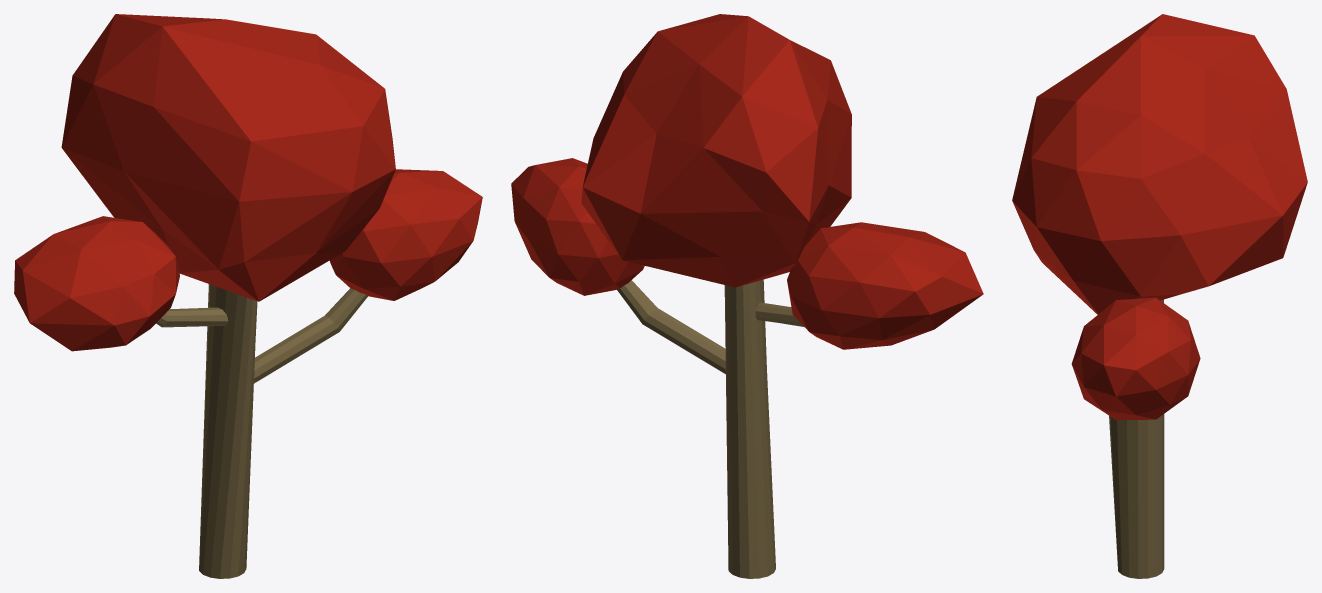
Rendered from red_tree.fbx.
The picture shows the model from 3 angles, left to right: view 1: azimuth 30°, elevation 25°; view 2: azimuth 150°, elevation 25°; view 3: azimuth 270°, elevation 25°; orthographic projection. The views are drawn at different scales.
Visible parts, largest first — view 1: tree_3; view 2: tree_3; view 3: tree_3.
Part boxes in pixels (x1,y1,x2,y2): tree_3: (14,14,482,578); tree_3: (511,14,983,578); tree_3: (1012,14,1307,578).
Bounding box in the file's own units: 4538 × 5239 × 2627.
